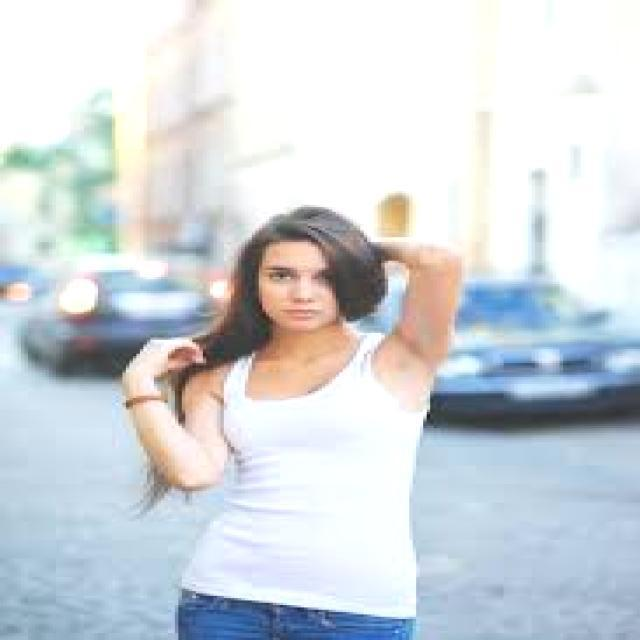no_vest: (182, 329, 430, 622)
